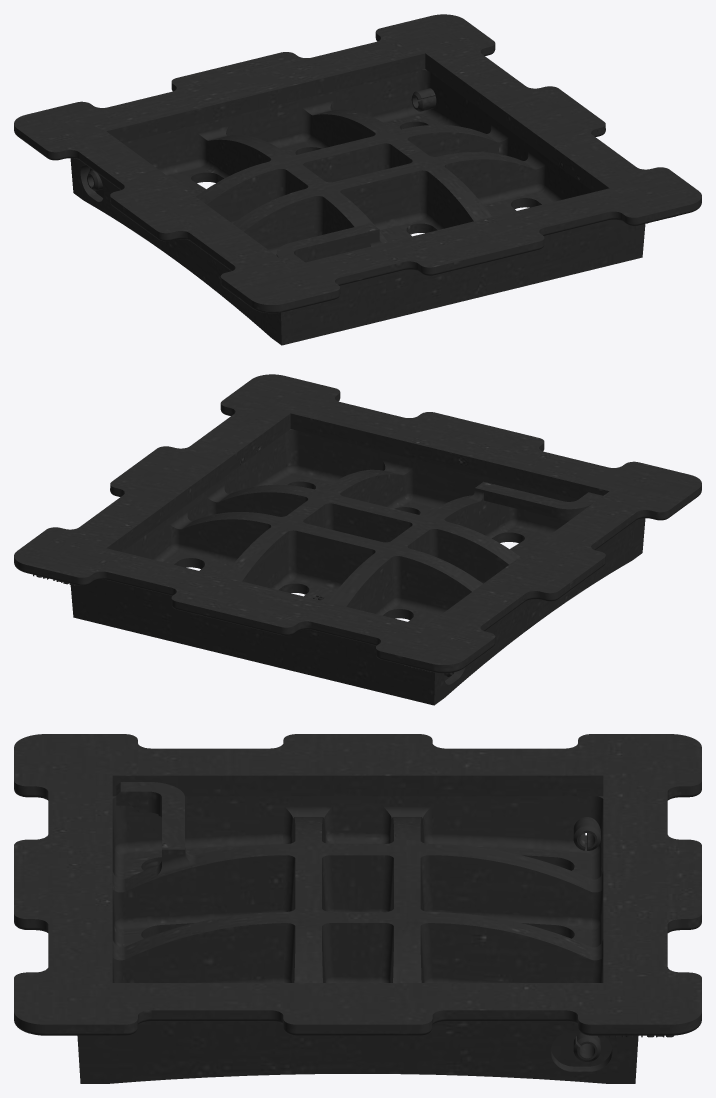
Rendered from 214-x-214-c250-hinge-grate-and-frm.glb.
The picture shows the model from 3 angles, top to bottom: view 1: azimuth 30°, elevation 25°; view 2: azimuth 150°, elevation 25°; view 3: azimuth 270°, elevation 25°; orthographic projection. The views are drawn at different scales.
Parts seen in each view (by area): view 1: NAUO2_high; view 2: NAUO2_high; view 3: NAUO2_high.
Boxes of the visible parts, x1,y1,x2,y2 form: NAUO2_high: (14,14,701,345); NAUO2_high: (14,374,701,705); NAUO2_high: (14,734,701,1083).
Size of the model in its own units: 0.3 by 0.0448 by 0.3.
Materials: 1 (1 with a texture image).
